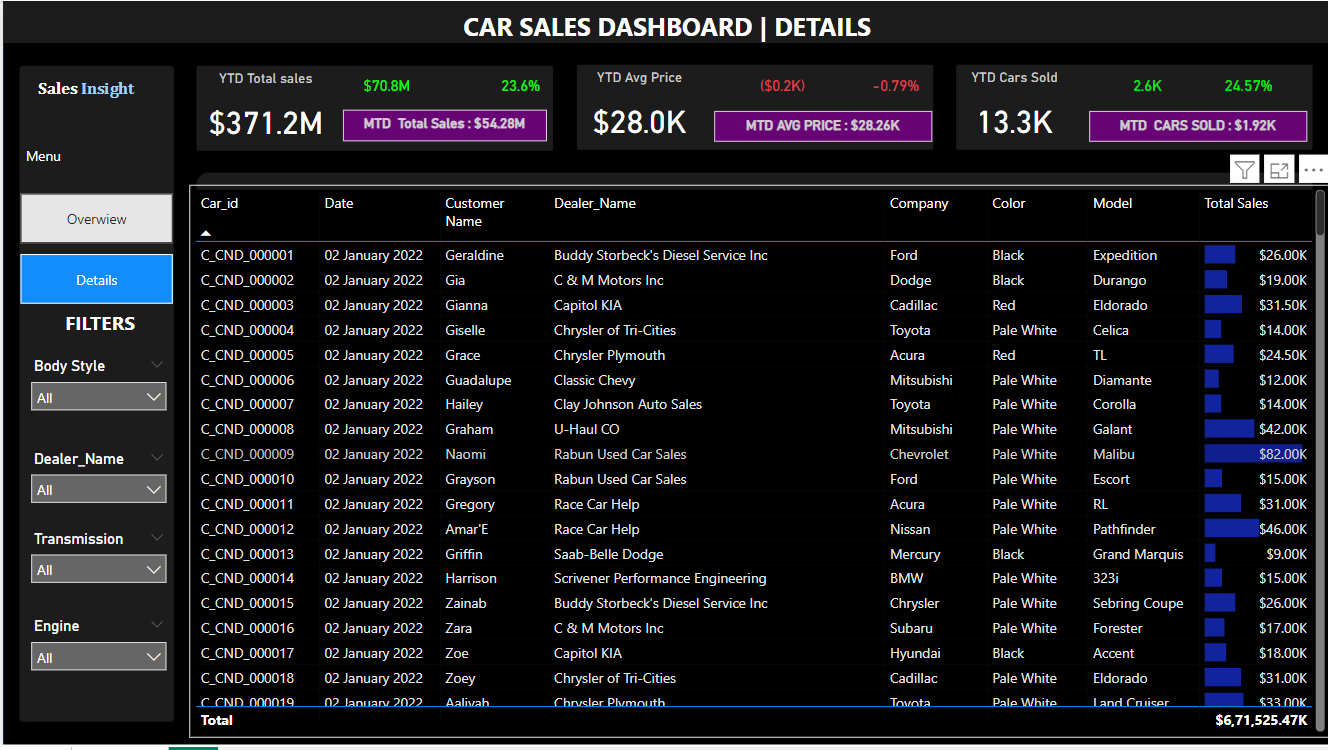

The page's visual inventory and layout, read from the dashboard file:
{"tool":"powerbi","page":{"name":" Details","canvas":[1280,720],"ordinal":1},"visuals":[{"type":"card","title":"YTD Total sales ","fields":{"Values":["measure.YTD Total sales"]},"box":[192,67.3,123.5,81.9],"z":0},{"type":"card","fields":{"Values":["measure.Sales Difference"]},"box":[315.5,62.4,111.3,41.6],"z":1000},{"type":"card","fields":{"Values":["measure.% sales difference"]},"box":[446.3,62.4,106.4,41.6],"z":2000},{"type":"card","fields":{"Values":["measure.MTD KPI"]},"box":[328.2,105,196.6,30],"z":3000},{"type":"card","title":"YTD Avg Price","fields":{"Values":["measure.YTD Avg price"]},"box":[552.7,66,123.5,81.9],"z":4000},{"type":"card","fields":{"Values":["measure.YTD SALES DIFFERENCE"]},"box":[695.8,62.4,112.5,41.6],"z":5000},{"type":"card","fields":{"Values":["measure.% AVG PRICE DIFF"]},"box":[808.3,62.4,106.4,41.6],"z":6000},{"type":"card","fields":{"Values":["measure.AVG MTD KPI"]},"box":[686,106.4,210.3,29.3],"z":7000},{"type":"card","title":"YTD Cars Sold ","fields":{"Values":["measure.YTD CARS SOLD"]},"box":[914.6,66,123.5,83.1],"z":8000},{"type":"card","fields":{"Values":["measure.YTD CARS SOLD DIFFERENCE"]},"box":[1047.9,62.4,112.5,41.6],"z":9000},{"type":"card","fields":{"Values":["measure.MTD CAR SOLD KPI"]},"box":[1047.9,106.4,210.3,29.3],"z":10000},{"type":"card","fields":{"Values":["measure.% CAR SOLD DIFF"]},"box":[1146.1,62.7,112.2,41],"z":11000},{"type":"textbox","box":[439.1,3.6,472.9,63.9],"z":12000},{"type":"slicer","fields":{"Values":["car_data.Body Style"]},"box":[17.3,338.9,150.9,73],"z":13000},{"type":"slicer","fields":{"Values":["car_data.Dealer_Name"]},"box":[17.3,428,150.9,64.3],"z":14000},{"type":"slicer","fields":{"Values":["car_data.Transmission"]},"box":[17.3,505.9,150.9,66.8],"z":15000},{"type":"slicer","fields":{"Values":["car_data.Engine"]},"box":[17.3,590,150.9,63.1],"z":16000},{"type":"textbox","box":[32.2,293.2,122.5,37.1],"z":17000},{"type":"tableEx","fields":{"Values":["car_data.Car_id","car_data.Date","car_data.Customer Name","car_data.Dealer_Name","car_data.Company","car_data.Color","car_data.Model","measure.total sales"]},"box":[179.4,176.9,1100.9,533.1],"z":18000},{"type":"textbox","box":[28.5,70.5,122.5,37.1],"z":19000},{"type":"pageNavigator","box":[17.3,185.5,147.2,107.6],"z":19001},{"type":"textbox","box":[17.3,134.8,122.5,37.1],"z":19002}]}

Visuals, with their boxes on the page's 1280x720 design canvas (x1, y1, x2, y2). These are canvas units, not pixel positions in the 1328x750 screenshot, which may show the page scaled, cropped or inside an application window:
"YTD Total sales " card: detection(192, 67, 316, 149)
card - measure.Sales Difference: detection(316, 62, 427, 104)
card - measure.% sales difference: detection(446, 62, 553, 104)
card - measure.MTD KPI: detection(328, 105, 525, 135)
"YTD Avg Price" card: detection(553, 66, 676, 148)
card - measure.YTD SALES DIFFERENCE: detection(696, 62, 808, 104)
card - measure.% AVG PRICE DIFF: detection(808, 62, 915, 104)
card - measure.AVG MTD KPI: detection(686, 106, 896, 136)
"YTD Cars Sold " card: detection(915, 66, 1038, 149)
card - measure.YTD CARS SOLD DIFFERENCE: detection(1048, 62, 1160, 104)
card - measure.MTD CAR SOLD KPI: detection(1048, 106, 1258, 136)
card - measure.% CAR SOLD DIFF: detection(1146, 63, 1258, 104)
textbox: detection(439, 4, 912, 68)
slicer - car_data.Body Style: detection(17, 339, 168, 412)
slicer - car_data.Dealer_Name: detection(17, 428, 168, 492)
slicer - car_data.Transmission: detection(17, 506, 168, 573)
slicer - car_data.Engine: detection(17, 590, 168, 653)
textbox: detection(32, 293, 155, 330)
tableEx - car_data.Car_id x car_data.Date: detection(179, 177, 1280, 710)
textbox: detection(28, 70, 151, 108)
pageNavigator: detection(17, 186, 164, 293)
textbox: detection(17, 135, 140, 172)
